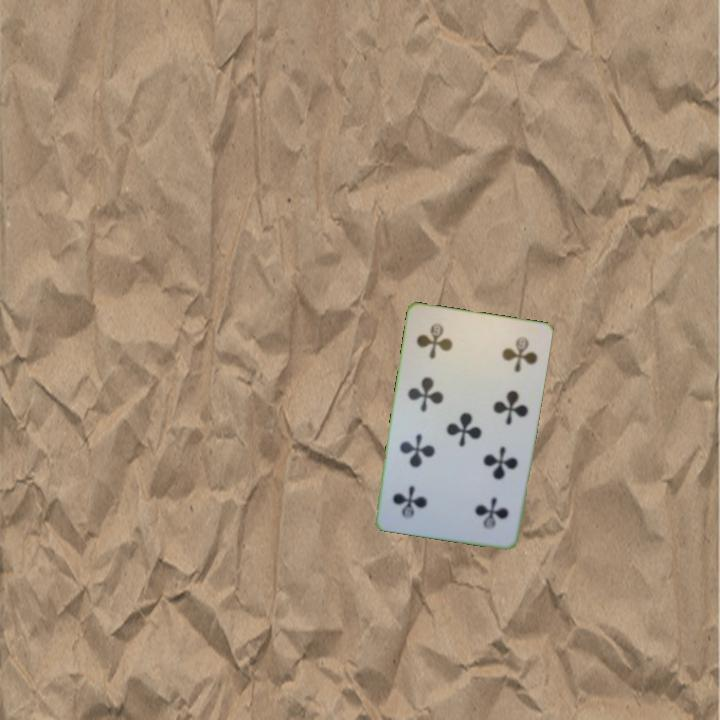c_9.png: (444, 473, 519, 540), (408, 312, 482, 379)
